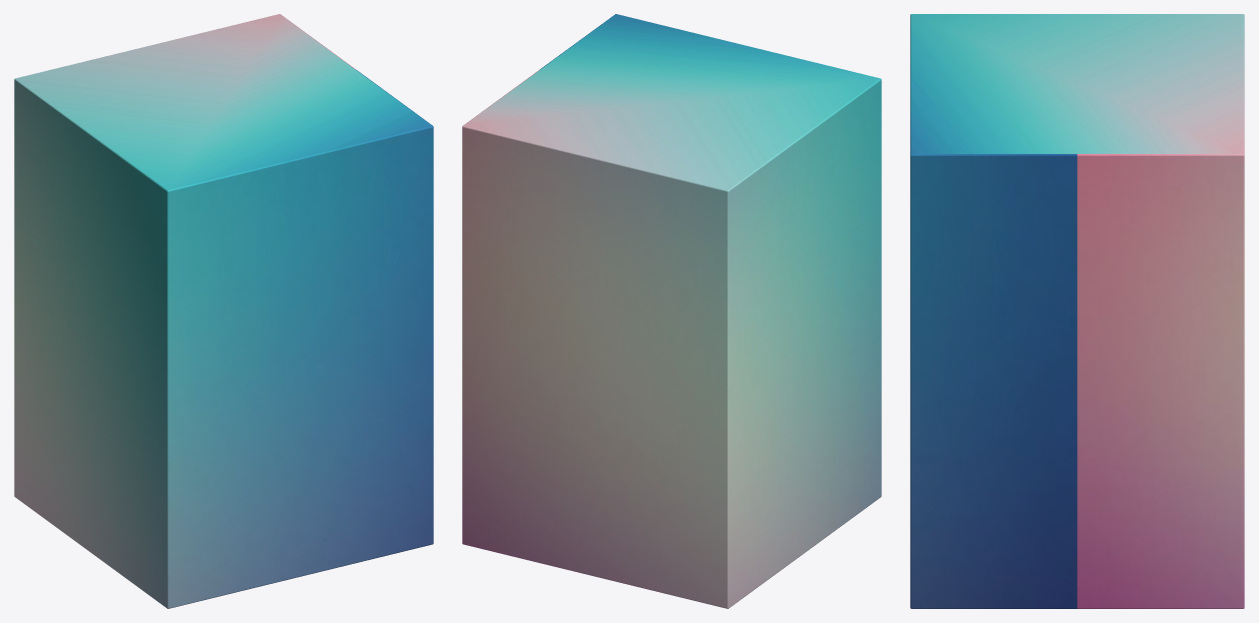
3 views of the same model, side by side, from view 1: azimuth 30°, elevation 25°; view 2: azimuth 150°, elevation 25°; view 3: azimuth 270°, elevation 25° (orthographic). The views are drawn at different scales.
Parts seen in each view (by area): view 1: 立方体; view 2: 立方体; view 3: 立方体.
Part boxes in pixels (box(x1,y1,x2,y2)): 立方体: box(14, 14, 433, 608); 立方体: box(462, 14, 881, 608); 立方体: box(910, 14, 1244, 608).
Size of the model in its own units: 200 by 300 by 200.
Materials: 1 (1 with a texture image).
